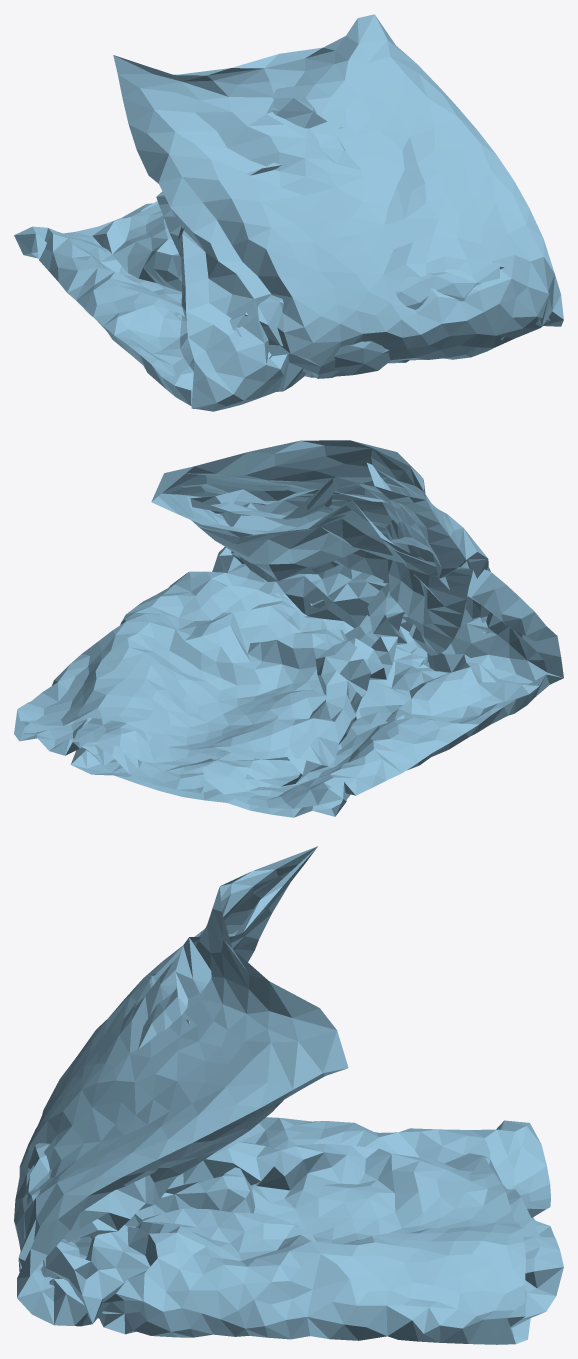
Rendered from frame_14.glb.
3 renders of one model, top to bottom at view 1: azimuth 30°, elevation 25°; view 2: azimuth 150°, elevation 25°; view 3: azimuth 270°, elevation 25°, orthographic. The views are drawn at different scales.
Visible parts, largest first — view 1: frame_14.obj; view 2: frame_14.obj; view 3: frame_14.obj.
Boxes of the visible parts, bbox=[...] form: frame_14.obj: bbox=[14, 14, 563, 411]; frame_14.obj: bbox=[14, 440, 563, 817]; frame_14.obj: bbox=[14, 846, 563, 1344].
Size of the model in its own units: 0.9827 by 0.6882 by 1.06.
